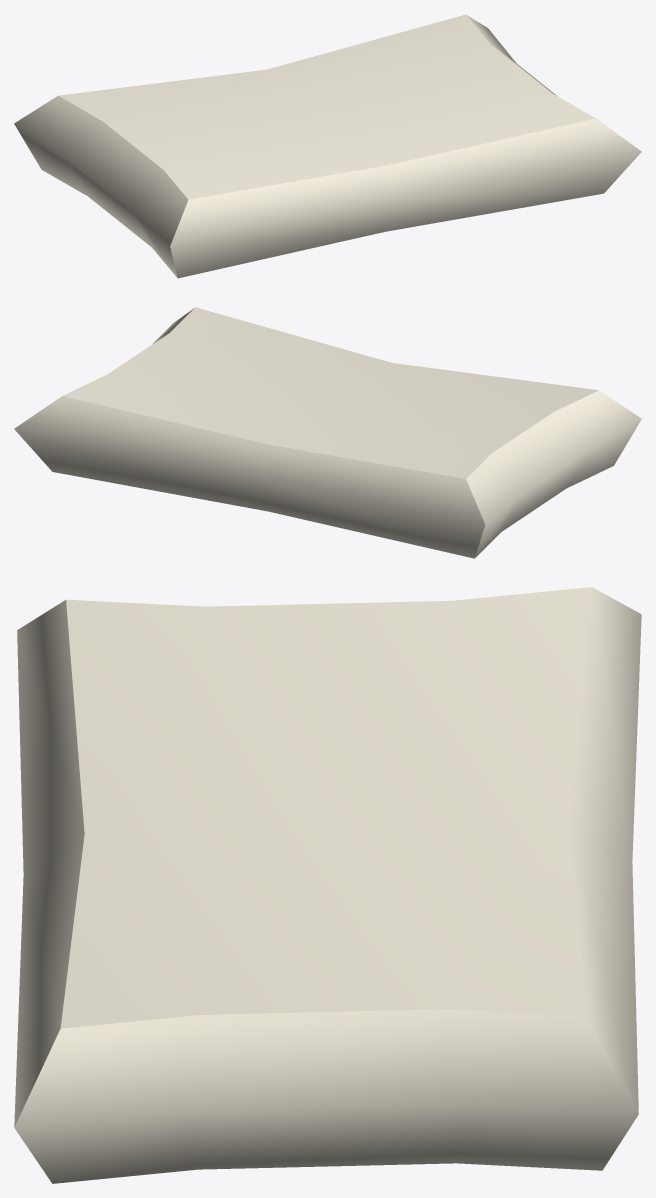
The model's file is SM_Pillow.FBX.
The picture shows the model from 3 angles, top to bottom: view 1: azimuth 30°, elevation 25°; view 2: azimuth 150°, elevation 25°; view 3: azimuth 270°, elevation 25°; orthographic projection. The views are drawn at different scales.
Visible parts, largest first — view 1: pillow002; view 2: pillow002; view 3: pillow002.
Boxes of the visible parts, x1,y1,x2,y2 form: pillow002: [14, 14, 641, 278]; pillow002: [14, 307, 641, 558]; pillow002: [14, 587, 641, 1183].
Size of the model in its own units: 37.54 by 7.49 by 21.58.
